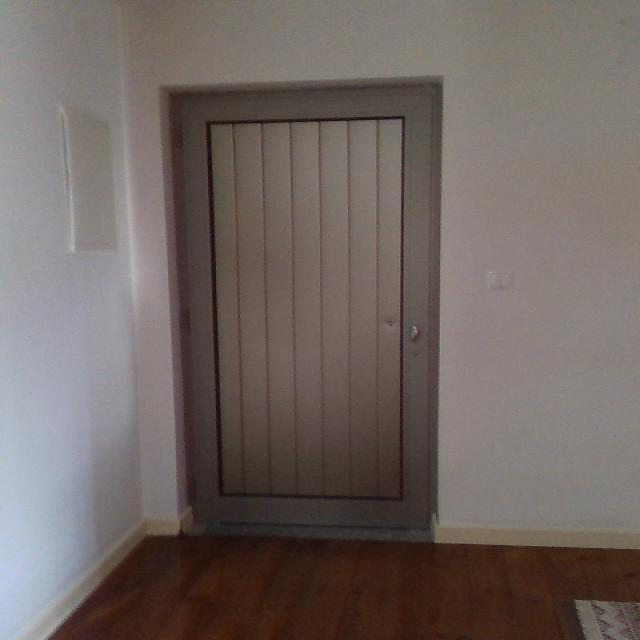door: (161, 67, 456, 536)
